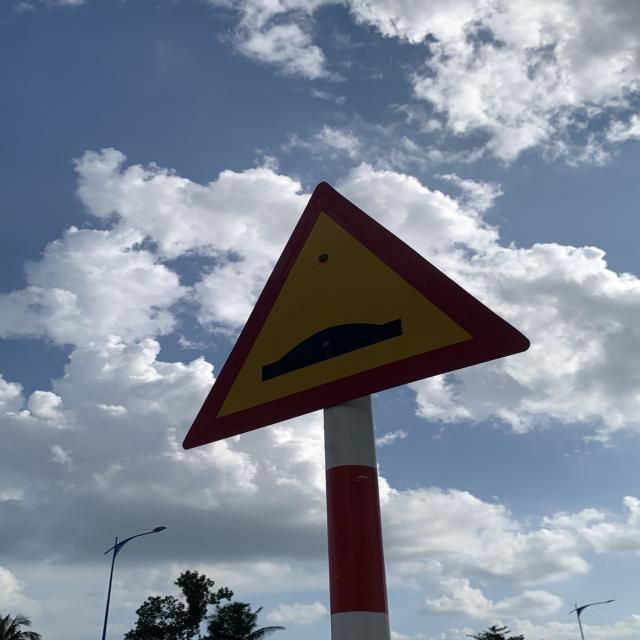Duong_Cong_Ben_Phai: (185, 178, 531, 449)
